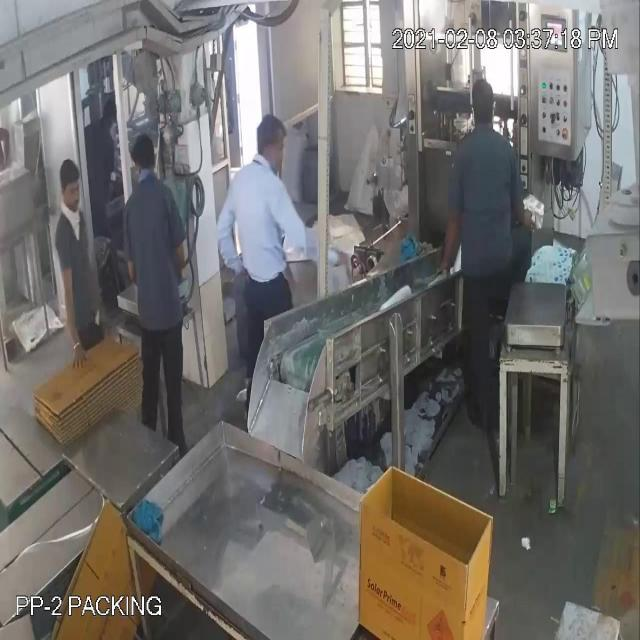No_Gloves: (24, 78, 456, 314)
